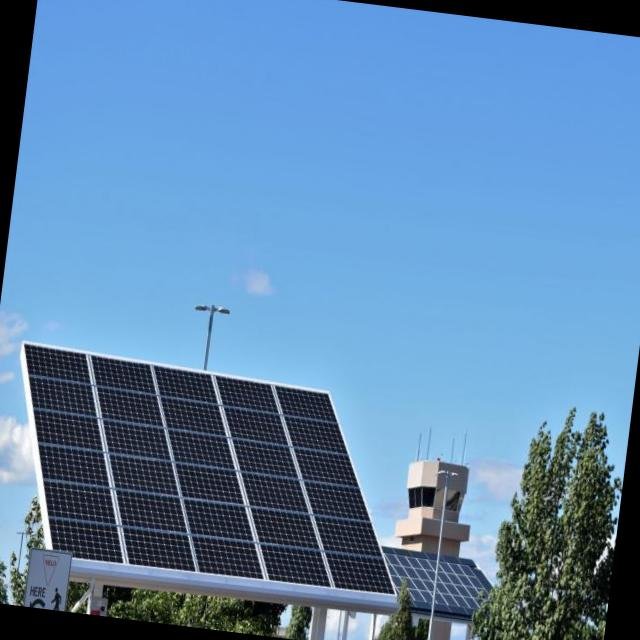no faulty: (31, 348, 383, 594)
